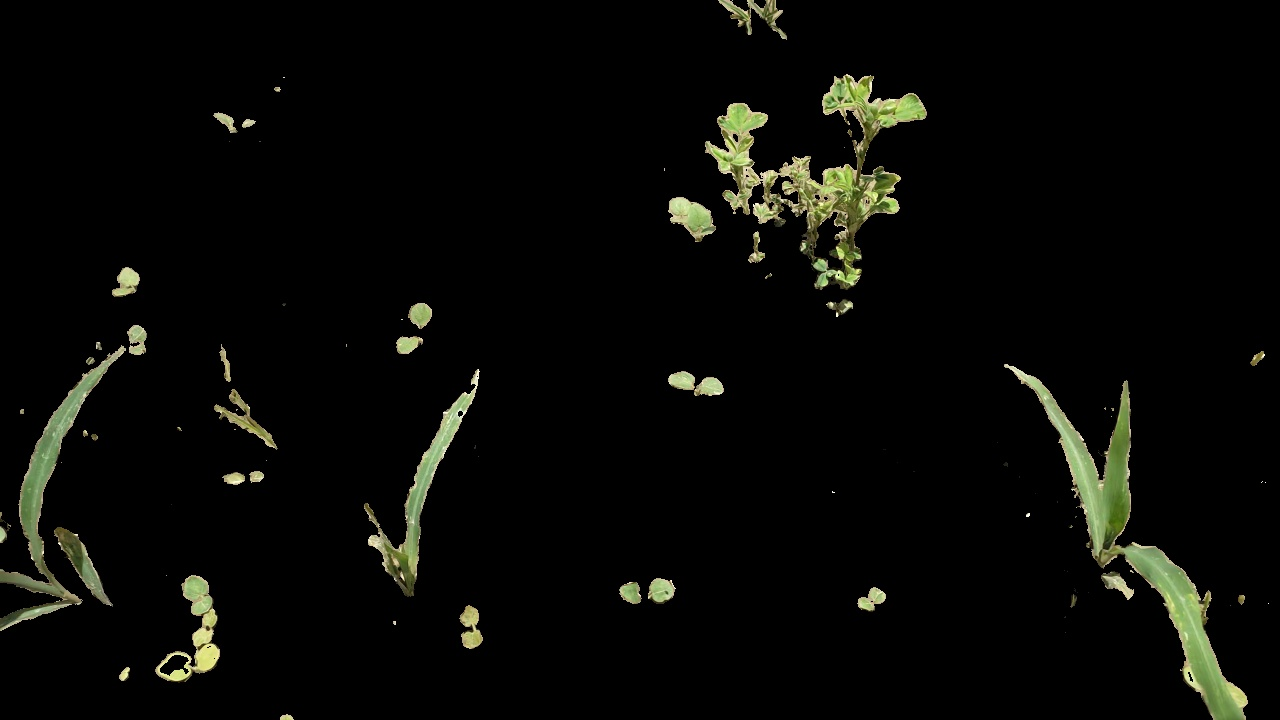crop: (1011, 363, 1250, 720), (340, 360, 492, 596), (2, 342, 120, 635)
weed: (674, 61, 928, 316), (152, 571, 227, 682), (602, 570, 688, 609), (394, 299, 435, 361), (669, 372, 729, 399), (454, 604, 489, 647), (109, 260, 142, 298), (218, 466, 273, 488), (209, 107, 258, 131), (857, 581, 885, 616), (126, 321, 149, 358)
